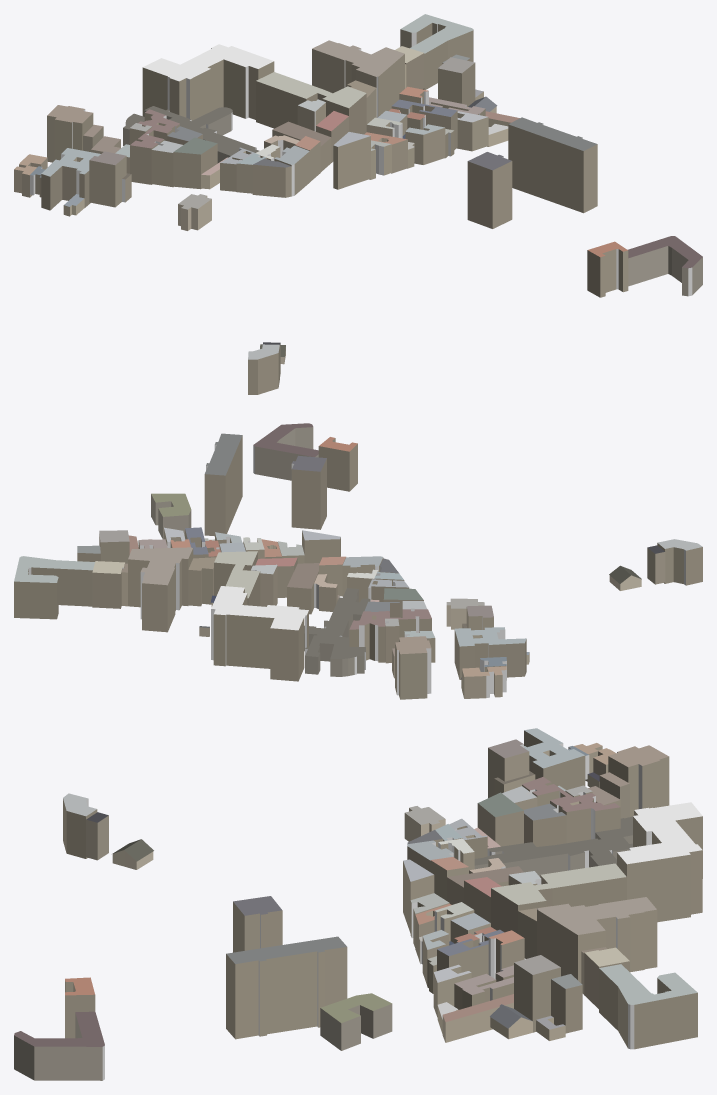
3 renders of one model, top to bottom at view 1: azimuth 30°, elevation 25°; view 2: azimuth 150°, elevation 25°; view 3: azimuth 270°, elevation 25°, orthographic. The views are drawn at different scales.
Visible parts, largest first — view 1: tuile; view 2: tuile; view 3: tuile.
Boxes of the visible parts, <box> form: tuile: <box>14,14,702,394</box>; tuile: <box>14,423,702,699</box>; tuile: <box>14,728,702,1080</box>.
Size of the model in its own units: 274 by 56.55 by 286.
